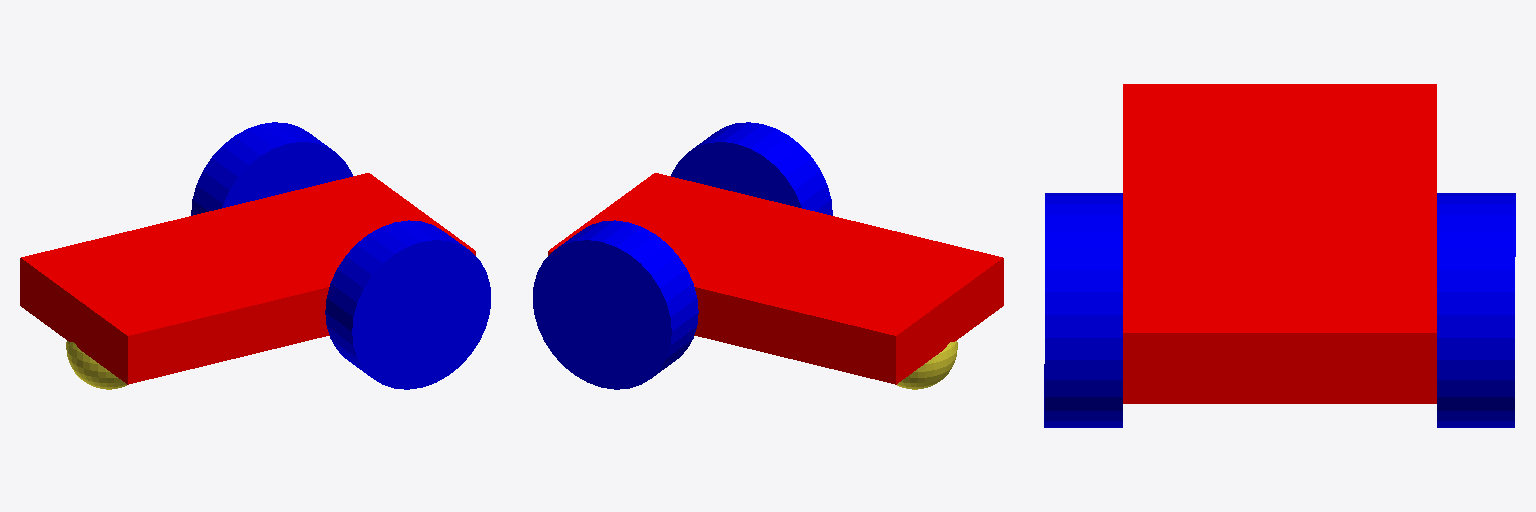
The robot description file, URDF, robot "three_wheeled_robot":
<?xml version="1.0" ?>

<robot name = "three_wheeled_robot">

    <link name="base">
        <visual>
        <geometry>
            <box size="0.75 0.4 0.1"/>
        </geometry>
        <material name="red">
            <color rgba="1 0 0 1" />
        </material>
        </visual>

        <inertial>
            <mass value="1" />
            <inertia ixx="0.01" ixy="0.0" ixz="0" iyy="0.01" iyz="0" izz="0.01" />
        </inertial>

        <collision>
        <geometry>
            <box size="0.75 0.4 0.1"/>
        </geometry>
        </collision>

    </link>

    <link name="wheel_right_link">
        <inertial>
                <mass value="2" />
                <inertia ixx="0.01" ixy="0.0" ixz="0"
                iyy="0.01" iyz="0" izz="0.01" />
        </inertial>
    
        <visual>
            <geometry>
              <cylinder radius="0.15" length="0.1"/>
            </geometry>
            <material name="blue">
            <color rgba="0 0 1 1"/>
            </material>
        </visual>
    
        <collision>        
            <geometry>
              <cylinder radius="0.15" length="0.1"/>
            </geometry>
          <contact_coefficients mu="1" kp="1e+13" kd="1.0"/>
        </collision>
    </link>
    
    <joint name="wheel_right_joint" type="continuous">
        <origin xyz="0.2 0.25 0.0" rpy="1.57 0.0 0.0"/>
        <parent link="base"/>
        <child link="wheel_right_link"/>
        <axis xyz="0.0 0.0 1.0"/>
    </joint>
    
    
    
    <link name="wheel_left_link">
        <inertial>
            <mass value="2" />
            <inertia ixx="0.01" ixy="0.0" ixz="0"
                iyy="0.01" iyz="0" izz="0.01" />
        </inertial>
    
        <visual>          
          <geometry>
              <cylinder radius="0.15" length="0.1"/>
          </geometry>
          <material name="blue">
            <color rgba="0 0 1 1"/>
          </material>
        </visual>
    
        <collision>
          <geometry>
              <cylinder radius="0.15" length="0.1"/>
          </geometry>
          <contact_coefficients mu="1" kp="1e+13" kd="1.0"/>
        </collision>
    </link>
    
    <joint name="wheel_left_joint" type="continuous">
        <origin xyz="0.2 -0.25 0.0" rpy="1.57 0.0 0.0"/>
        <parent link="base"/>
        <child link="wheel_left_link"/>
        <axis xyz="0.0 0.0 1.0"/>    
    </joint>
    
    
    
    <link name="caster">
        <inertial>
                <mass value="1" />
                <inertia ixx="0.01" ixy="0.0" ixz="0"
                iyy="0.01" iyz="0" izz="0.01" />
        </inertial>
    
        <visual>        
          <geometry>
            <sphere radius=".08" />
          </geometry>
          <material name="white" />
        </visual>
    
        <collision>
          <origin/>
          <geometry>
            <sphere radius=".08" />
          </geometry>
        </collision>
    </link>
    
    <joint name="caster_joint" type="continuous">
        <origin xyz="-0.3 0.0 -0.07" rpy="0.0 0.0 0.0"/>
        <axis xyz="0 0 1" />
        <parent link="base"/>
        <child link="caster"/>
    </joint>
     
    <link name="camera">
        <inertial>
                <mass value="0.1" />
                <inertia ixx="0.01" ixy="0.0" ixz="0"
                iyy="0.01" iyz="0" izz="0.01" />
        </inertial>
    
        <!-- <visual>          
          <geometry>
            <box size="0.1 0.1 0.05"/>
          </geometry>
          <material name="white">
            <color rgba="1 1 1 1"/>
          </material>
        </visual> -->

        <collision>
          <geometry>
              <box size="0.1 0.1 0.05"/>
          </geometry>
        </collision>
    </link>
    
    <joint name="camera_joint" type="fixed">
        <origin xyz="-0.35 0 0.01" rpy="0 0.0 3.14"/>
        <parent link="base"/>
        <child link="camera"/>
        <axis xyz="0.0 0.0 1.0"/>    
    </joint>
    
    <link name="lidar">
        <inertial>
                <mass value="0.5" />
                <inertia ixx="0.01" ixy="0.0" ixz="0"
                iyy="0.01" iyz="0" izz="0.01" />
        </inertial>
    
        <!-- <visual>          
          <geometry>
            <cylinder radius="0.1" length="0.05"/>
          </geometry>
          <material name="white">
            <color rgba="1 1 1 1"/>
          </material>
        </visual> -->
    
        <collision>
          <geometry>
              <box size="0.1 0.1 0.1"/>
          </geometry>
        </collision>
    </link>
    
    <joint name="lidar_joint" type="fixed">
        <origin xyz="-0.285 0 0.075" rpy="0 0.0 1.57"/>
        <parent link="base"/>
        <child link="lidar"/>
        <axis xyz="0.0 0.0 1.0"/>
    
    </joint>

    <!--http://wiki.ros.org/simulator_gazebo/Tutorials/ListOfMaterials-->
    <gazebo reference="base">
        <material>Gazebo/WhiteGlow</material>
    </gazebo>
    <gazebo reference="wheel_left_link">
        <material>Gazebo/SkyBlue</material>
    </gazebo>
    <gazebo reference="wheel_right_link">
        <material>Gazebo/SkyBlue </material>
    </gazebo>
    <gazebo reference="caster">
        <material>Gazebo/Grey</material>
    </gazebo>
    <gazebo reference="lidar">
        <material>Gazebo/Blue</material>
    </gazebo>
    <gazebo reference="camera">
        <material>Gazebo/Red</material>
    </gazebo>
    
    
  
    <!-- differential robot-->
    <gazebo>
        <plugin filename="libgazebo_ros_diff_drive.so" name="gazebo_base_controller">
          <odometry_frame>odom</odometry_frame>
          <commandTopic>cmd_vel</commandTopic>
          <publish_odom>true</publish_odom>
          <publish_odom_tf>true</publish_odom_tf>
          <update_rate>15.0</update_rate>
    
          <left_joint>wheel_left_joint</left_joint>
          <right_joint>wheel_right_joint</right_joint>
          
          <wheel_separation>0.5</wheel_separation>
          <wheel_diameter>0.3</wheel_diameter>
          <max_wheel_acceleration>0.7</max_wheel_acceleration>
          <max_wheel_torque>8</max_wheel_torque>
          <robotBaseFrame>base</robotBaseFrame>
        </plugin>
    </gazebo>
    
    <!-- camera plugin-->
    <gazebo reference="camera">
      <sensor type="camera" name="camera1">
        <visualize>true</visualize>
        <update_rate>30.0</update_rate>
        <camera name="head">
          <horizontal_fov>1.3962634</horizontal_fov>
          <image>
            <width>800</width>
            <height>800</height>
            <format>R8G8B8</format>
          </image>
          <clip>
            <near>0.02</near>
            <far>300</far>
          </clip>
        </camera>
        <plugin name="camera_controller" filename="libgazebo_ros_camera.so">
          <alwaysOn>true</alwaysOn>
          <updateRate>60.0</updateRate>
          <cameraName>/camera1</cameraName>
          <imageTopicName>image_raw</imageTopicName>
          <cameraInfoTopicName>info_camera</cameraInfoTopicName>
          <frameName>camera</frameName>
          <hackBaseline>0.07</hackBaseline>
        </plugin>
      </sensor>
    </gazebo>
    
    <!--lidar plugin-->
    <gazebo reference="lidar">
      <sensor name="lidar" type="ray">
       <visualize>true</visualize>
        <update_rate>12.0</update_rate>
        <plugin filename="libgazebo_ros_ray_sensor.so" name="gazebo_lidar">    
        <output_type>sensor_msgs/LaserScan</output_type>
        <frame_name>lidar</frame_name>
        </plugin>
        <ray>
          <scan>
            <horizontal>
              <samples>360</samples>
              <resolution>1</resolution>
              <min_angle>0.00</min_angle>
              <max_angle>3.14</max_angle>
            </horizontal>
          </scan>
          <range>
            <min>0.120</min>
            <max>3.5</max>
            <resolution>0.015</resolution>
          </range>
        </ray>
      </sensor>
    </gazebo>

</robot>

--- Render facts (derived) ---
3 views of the same robot in one strip: view 1: azimuth 30°, elevation 25°; view 2: azimuth 150°, elevation 25°; view 3: azimuth 270°, elevation 25° (orthographic).
Robot: three_wheeled_robot — 6 links, 5 joints (3 continuous, 2 fixed); root link base; default pose: all joints at 0.
Links seen in each view (by area): view 1: base, wheel_left_link, wheel_right_link, caster; view 2: base, wheel_right_link, wheel_left_link, caster; view 3: base, wheel_right_link, wheel_left_link.
Link boxes in pixels (<box>): base: <box>20,173,475,384</box>; wheel_left_link: <box>325,220,490,389</box>; wheel_right_link: <box>191,122,352,215</box>; caster: <box>66,341,126,389</box>; base: <box>548,173,1003,384</box>; wheel_right_link: <box>533,220,698,389</box>; wheel_left_link: <box>671,122,832,215</box>; caster: <box>897,341,957,389</box>; base: <box>1123,84,1436,403</box>; wheel_right_link: <box>1437,193,1515,427</box>; wheel_left_link: <box>1044,193,1122,427</box>.
Bounding box of the posed robot: 0.755 × 0.6002 × 0.3001 m (x, y, z).
Geometry: primitives only (box / cylinder / sphere), no mesh files.
